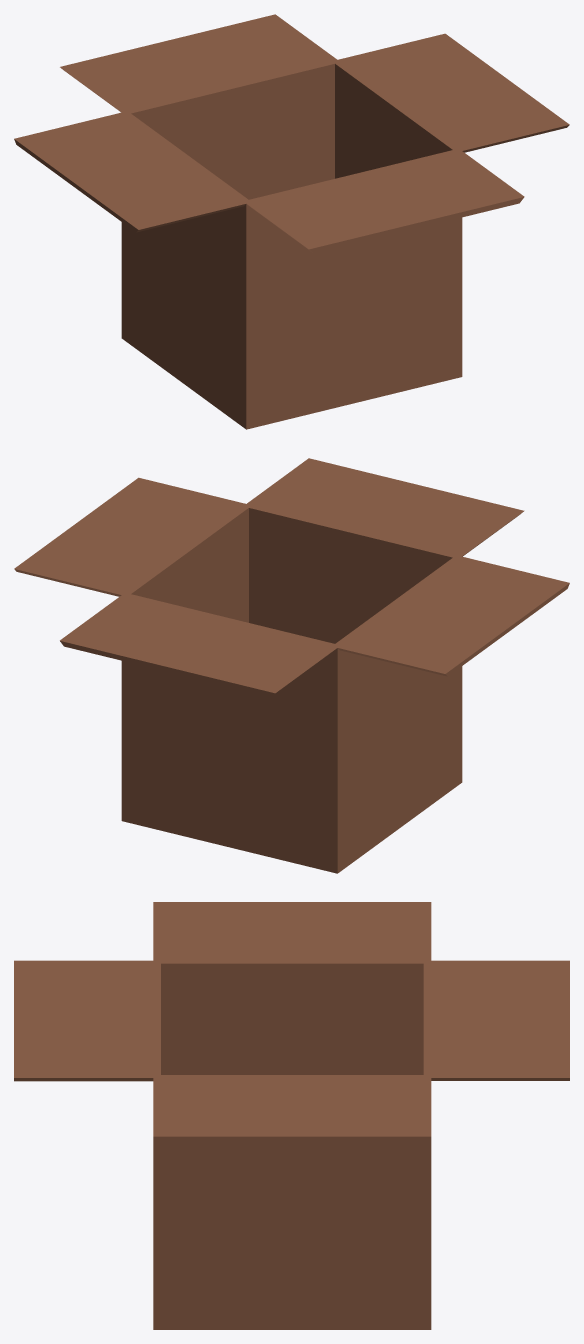
Rendered from uploads_files_3134014_box.fbx.
3 renders of one model, top to bottom at view 1: azimuth 30°, elevation 25°; view 2: azimuth 150°, elevation 25°; view 3: azimuth 270°, elevation 25°, orthographic. The views are drawn at different scales.
Parts seen in each view (by area): view 1: Box; view 2: Box; view 3: Box.
Part boxes in pixels (bbox=[...]): Box: bbox=[14, 14, 569, 429]; Box: bbox=[14, 458, 569, 873]; Box: bbox=[14, 902, 569, 1329].
Size of the model in its own units: 400 by 200 by 400.
